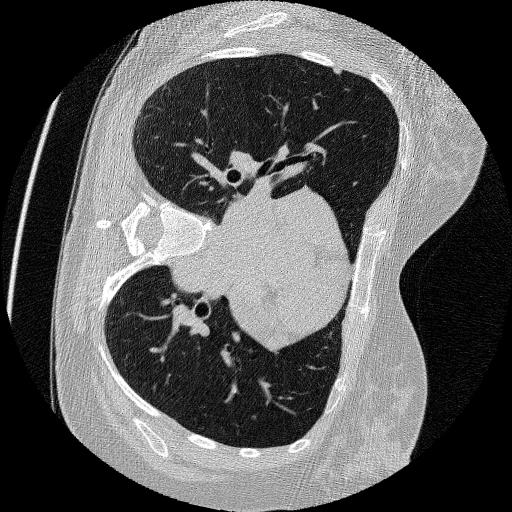nodule: (331, 63, 346, 78)
